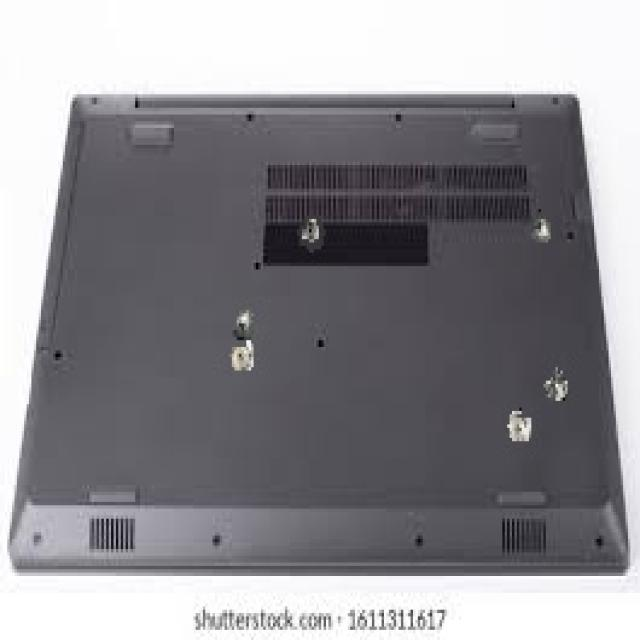lock: (543, 367, 568, 401), (229, 337, 254, 371), (297, 212, 321, 246), (507, 408, 531, 441)
missing_screw: (526, 209, 551, 243), (229, 307, 254, 340)
